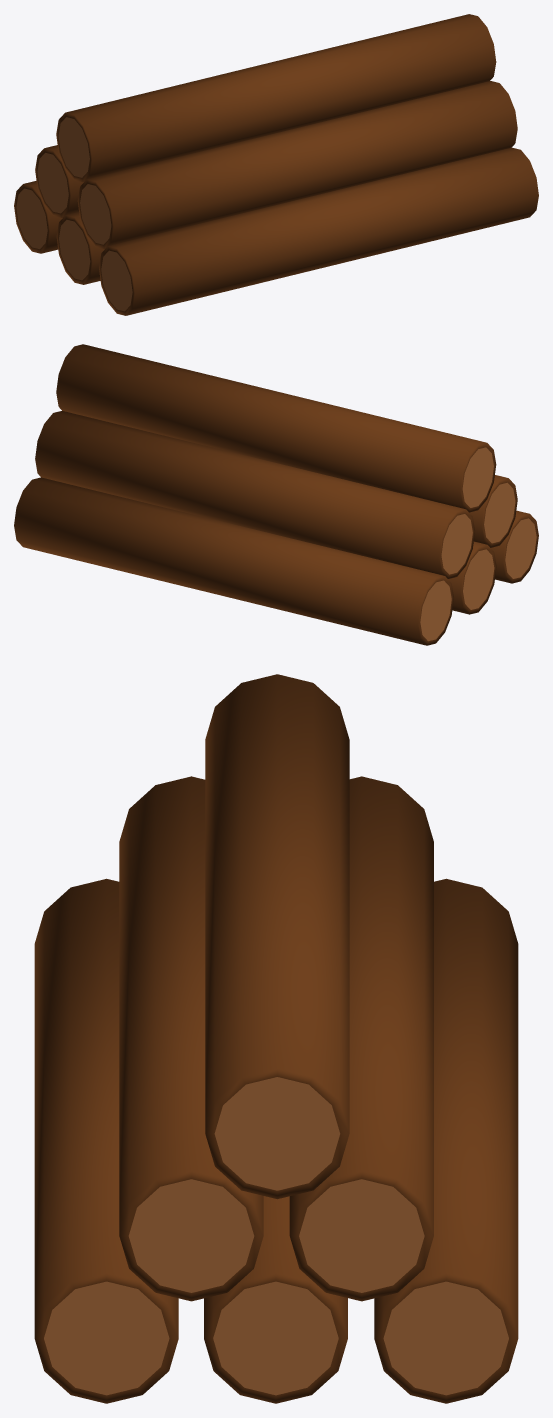
The model's file is wood pile.fbx.
3 views of the same model, one above another, from view 1: azimuth 30°, elevation 25°; view 2: azimuth 150°, elevation 25°; view 3: azimuth 270°, elevation 25° (orthographic). The views are drawn at different scales.
Parts seen in each view (by area): view 1: wood pile; view 2: wood pile; view 3: wood pile.
Part boxes in pixels (x1=…): wood pile: x1=14, y1=14, x2=538, y2=315; wood pile: x1=14, y1=344, x2=538, y2=645; wood pile: x1=34, y1=674, x2=518, y2=1403.
Size of the model in its own units: 3.42 by 1.36 by 1.77.
